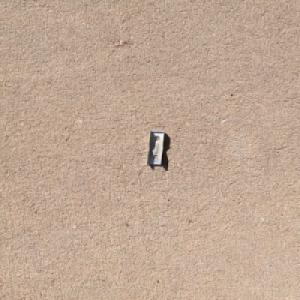ClampPart: (145, 129, 167, 166)
